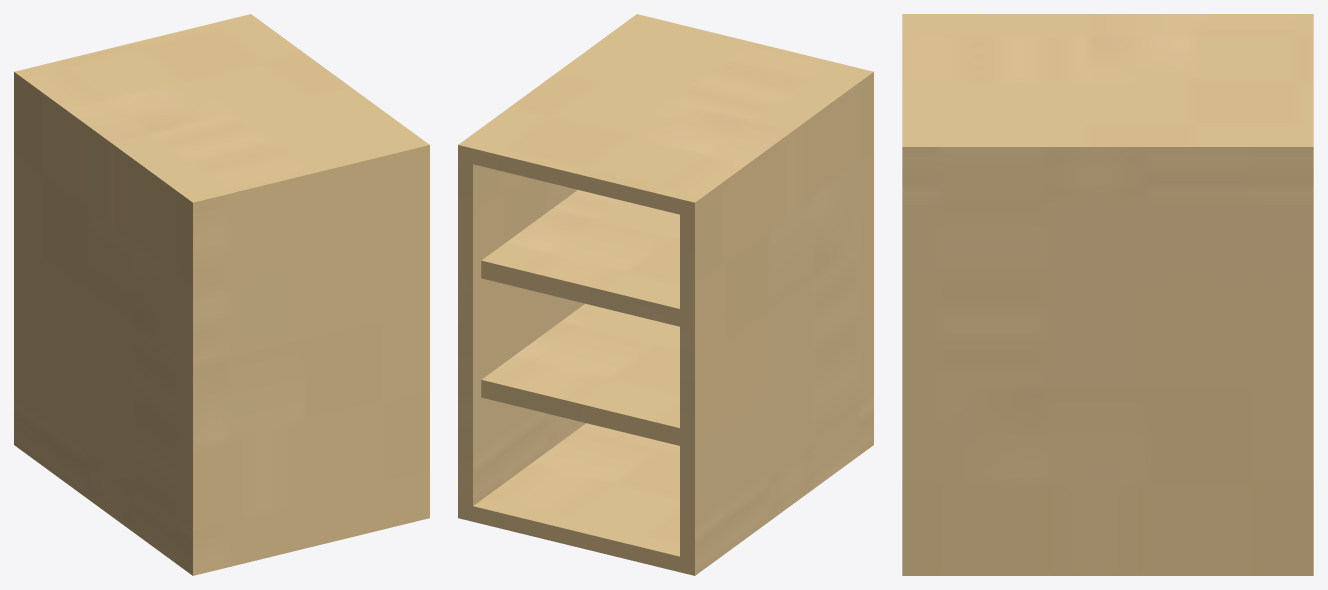
The model's file is CabinetG07.glb.
3 views of the same model, side by side, from view 1: azimuth 30°, elevation 25°; view 2: azimuth 150°, elevation 25°; view 3: azimuth 270°, elevation 25° (orthographic). The views are drawn at different scales.
Parts seen in each view (by area): view 1: CabinetG07_model; view 2: CabinetG07_model; view 3: CabinetG07_model.
Boxes of the visible parts, box(x1,y1,x2,y2) form: CabinetG07_model: box(14, 14, 429, 575); CabinetG07_model: box(458, 14, 873, 575); CabinetG07_model: box(902, 14, 1313, 575).
Size of the model in its own units: 0.9201 by 1.39 by 1.2.
Materials: 1 (1 with a texture image).
